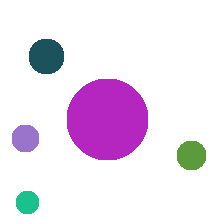circle: (67, 79, 147, 159), (29, 39, 63, 73), (177, 141, 205, 169), (12, 125, 38, 151), (16, 191, 38, 213)
